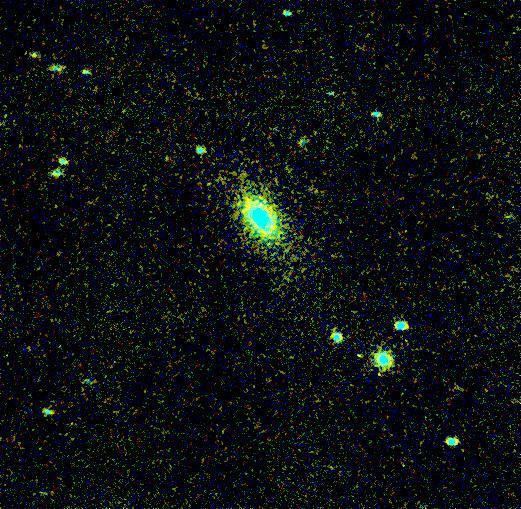star: (12, 36, 42, 66)
